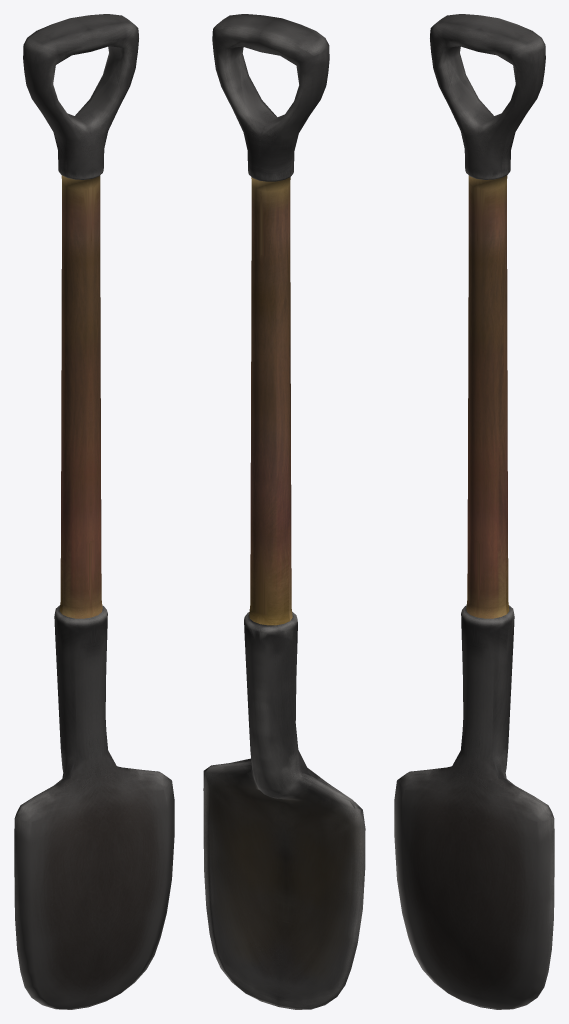
The model's file is Shovel.fbx.
The picture shows the model from 3 angles, left to right: view 1: azimuth 30°, elevation 25°; view 2: azimuth 150°, elevation 25°; view 3: azimuth 330°, elevation 25°; orthographic projection.
Parts seen in each view (by area): view 1: Shovel; view 2: Shovel; view 3: Shovel.
Boxes of the visible parts, x1,y1,x2,y2 form: Shovel: (14,14,174,1009); Shovel: (203,14,365,1009); Shovel: (394,14,554,1009).
Bounding box in the file's own units: 23.77 × 139 × 10.04.
